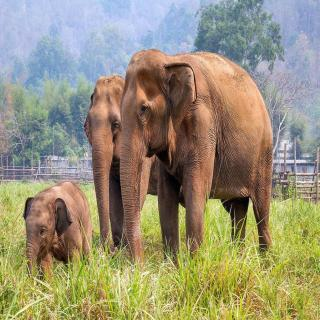Elephant: (119, 45, 278, 265), (22, 180, 97, 292), (84, 61, 125, 257)
